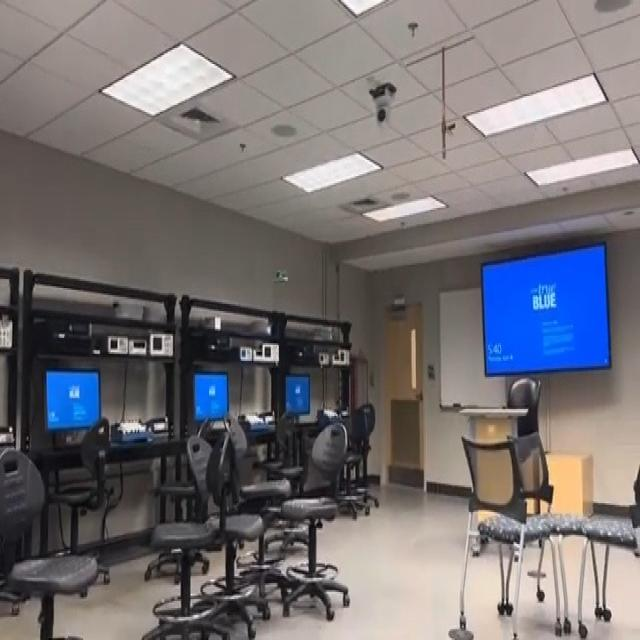drone: (265, 248, 293, 290)
